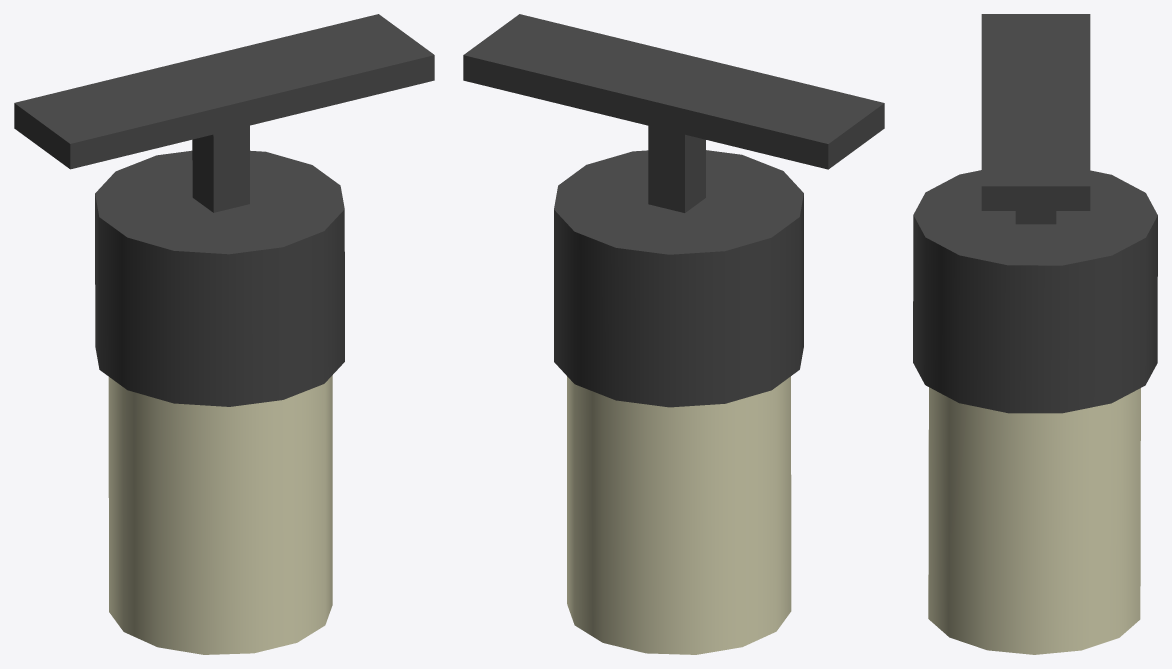
The model's file is Lamp_02.FBX.
3 views of the same model, side by side, from view 1: azimuth 30°, elevation 25°; view 2: azimuth 150°, elevation 25°; view 3: azimuth 270°, elevation 25° (orthographic). The views are drawn at different scales.
Parts seen in each view (by area): view 1: Lamp_02; view 2: Lamp_02; view 3: Lamp_02.
Part boxes in pixels (x1=…): Lamp_02: x1=14, y1=14, x2=434, y2=654; Lamp_02: x1=463, y1=14, x2=884, y2=654; Lamp_02: x1=913, y1=14, x2=1157, y2=654.
Bounding box in the file's own units: 11.81 × 16.34 × 7.1.
